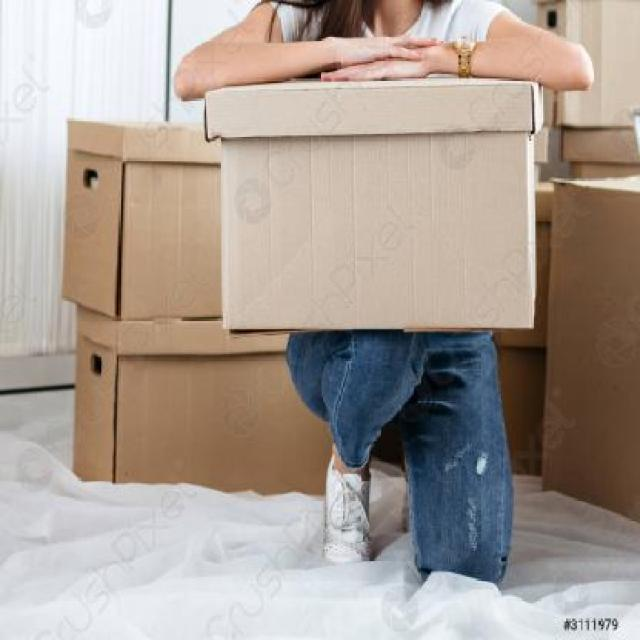box: (204, 77, 534, 336), (72, 302, 335, 508), (61, 114, 230, 320), (549, 172, 640, 530), (540, 0, 640, 125)
